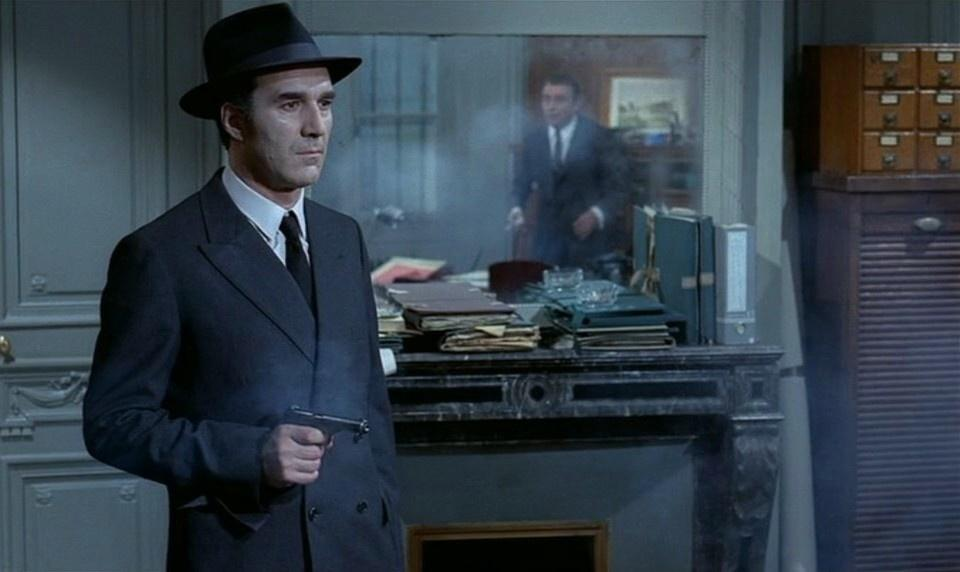gun: (271, 401, 372, 491)
